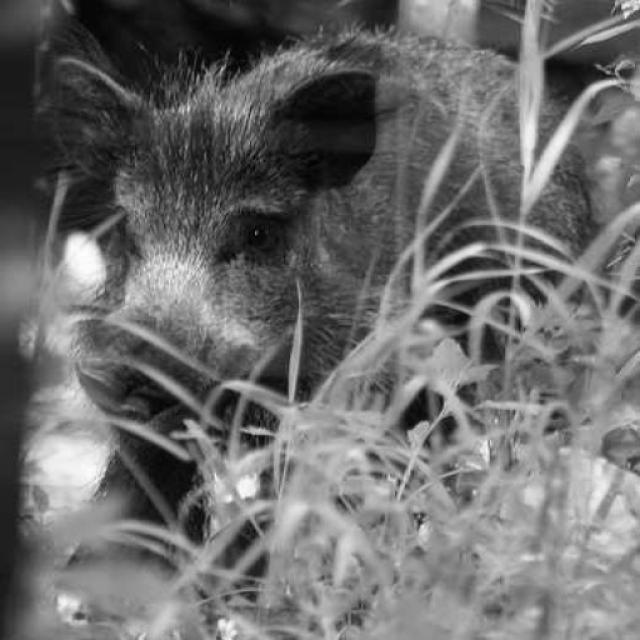WILD BOAR: (61, 50, 601, 516)
